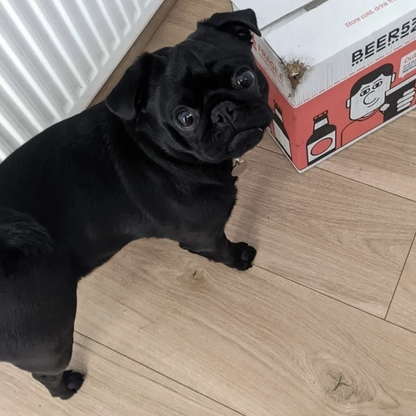Pug: (1, 5, 281, 403)
